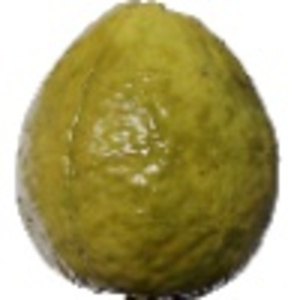goiaba: (10, 5, 283, 297)
